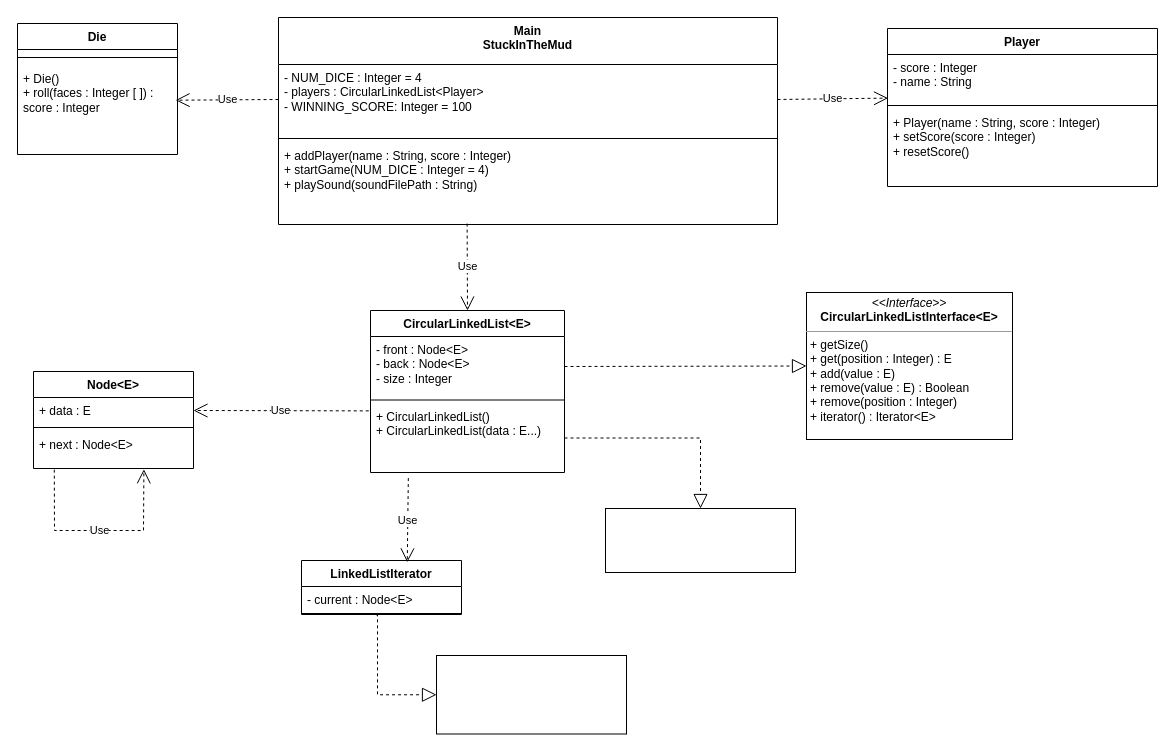
This 1175x752 diagram has some shape labels left out. Here are the shapes that lost their labels. From the top down, the centre of each, then its label:
pixel 700 540: <<Interface>> Iterable + iterator() : Iterator<E>
pixel 531 694: <<Interface>> Iterator<E> + next() + hasNext() : Boolean
